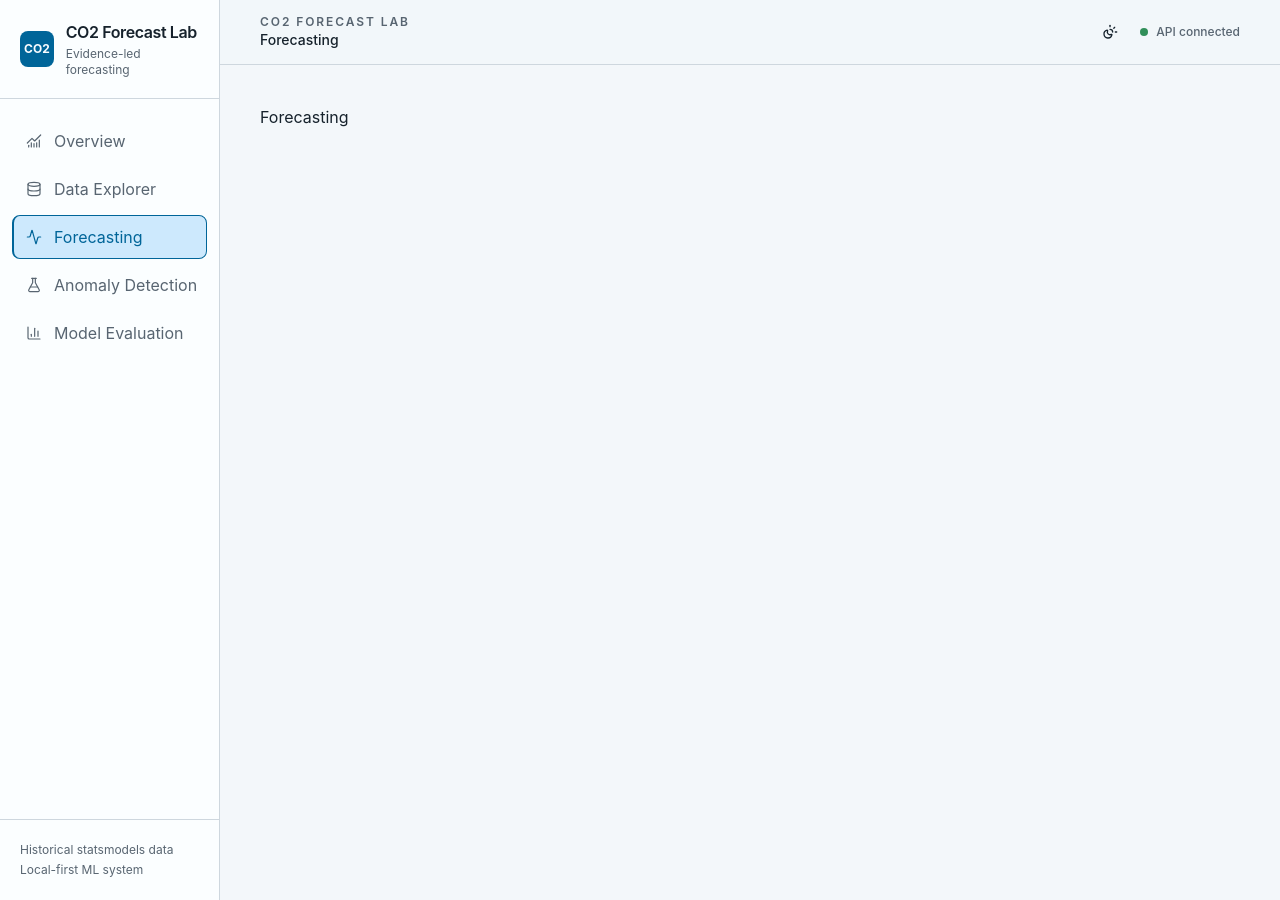
Test case: AppShell › provides an accessible theme control with all three choices
What coordinates should you click on to do the following:
click the button named "Theme:"
I would click on:
 (1110, 32)
Its box is [1088,10,1132,54].
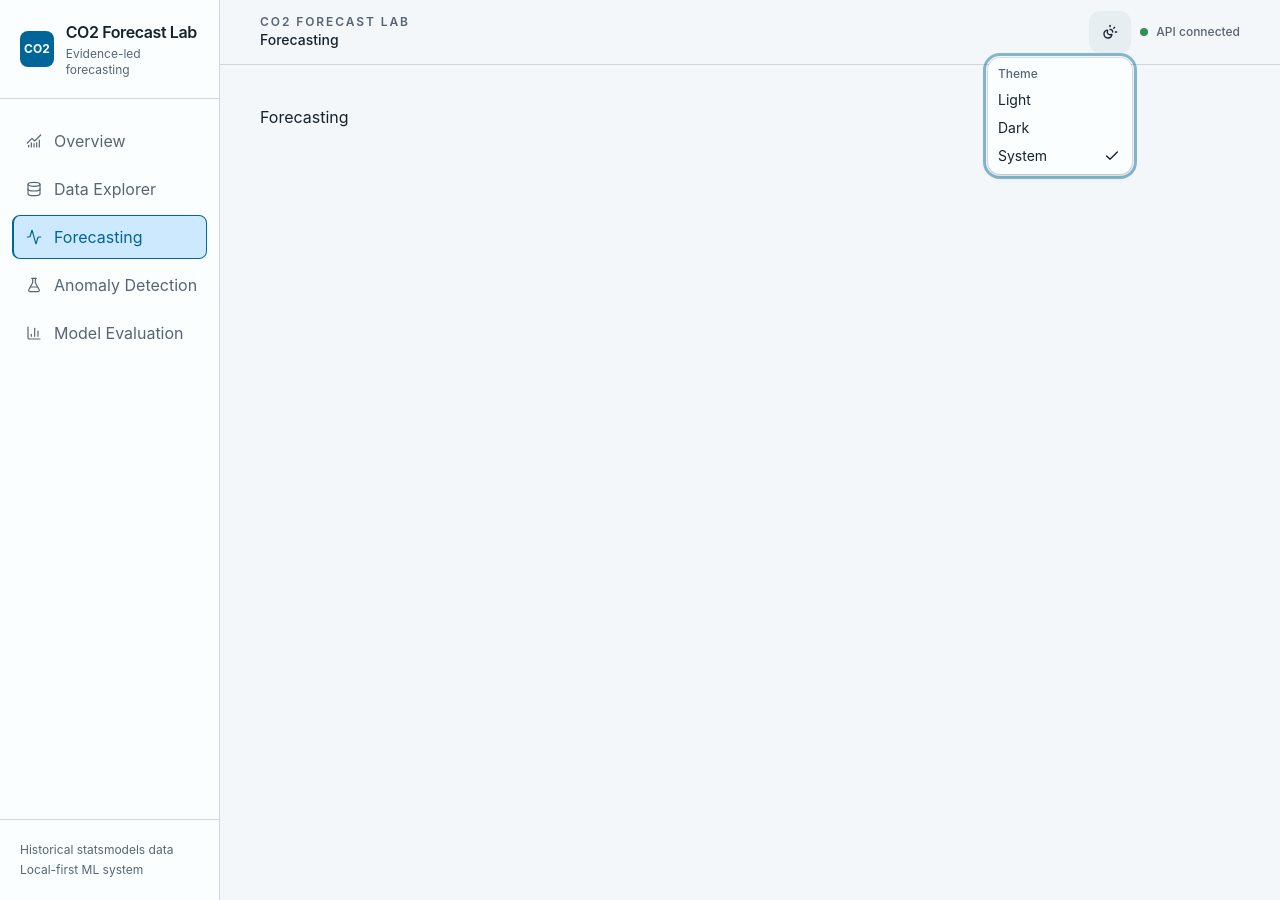
Now the menu item "Light" is shown, box [998,91,1031,108]
Now the menu item "Dark" is shown, box [998,119,1029,136]
Now the menu item "System" is shown, box [992,142,1128,170]
